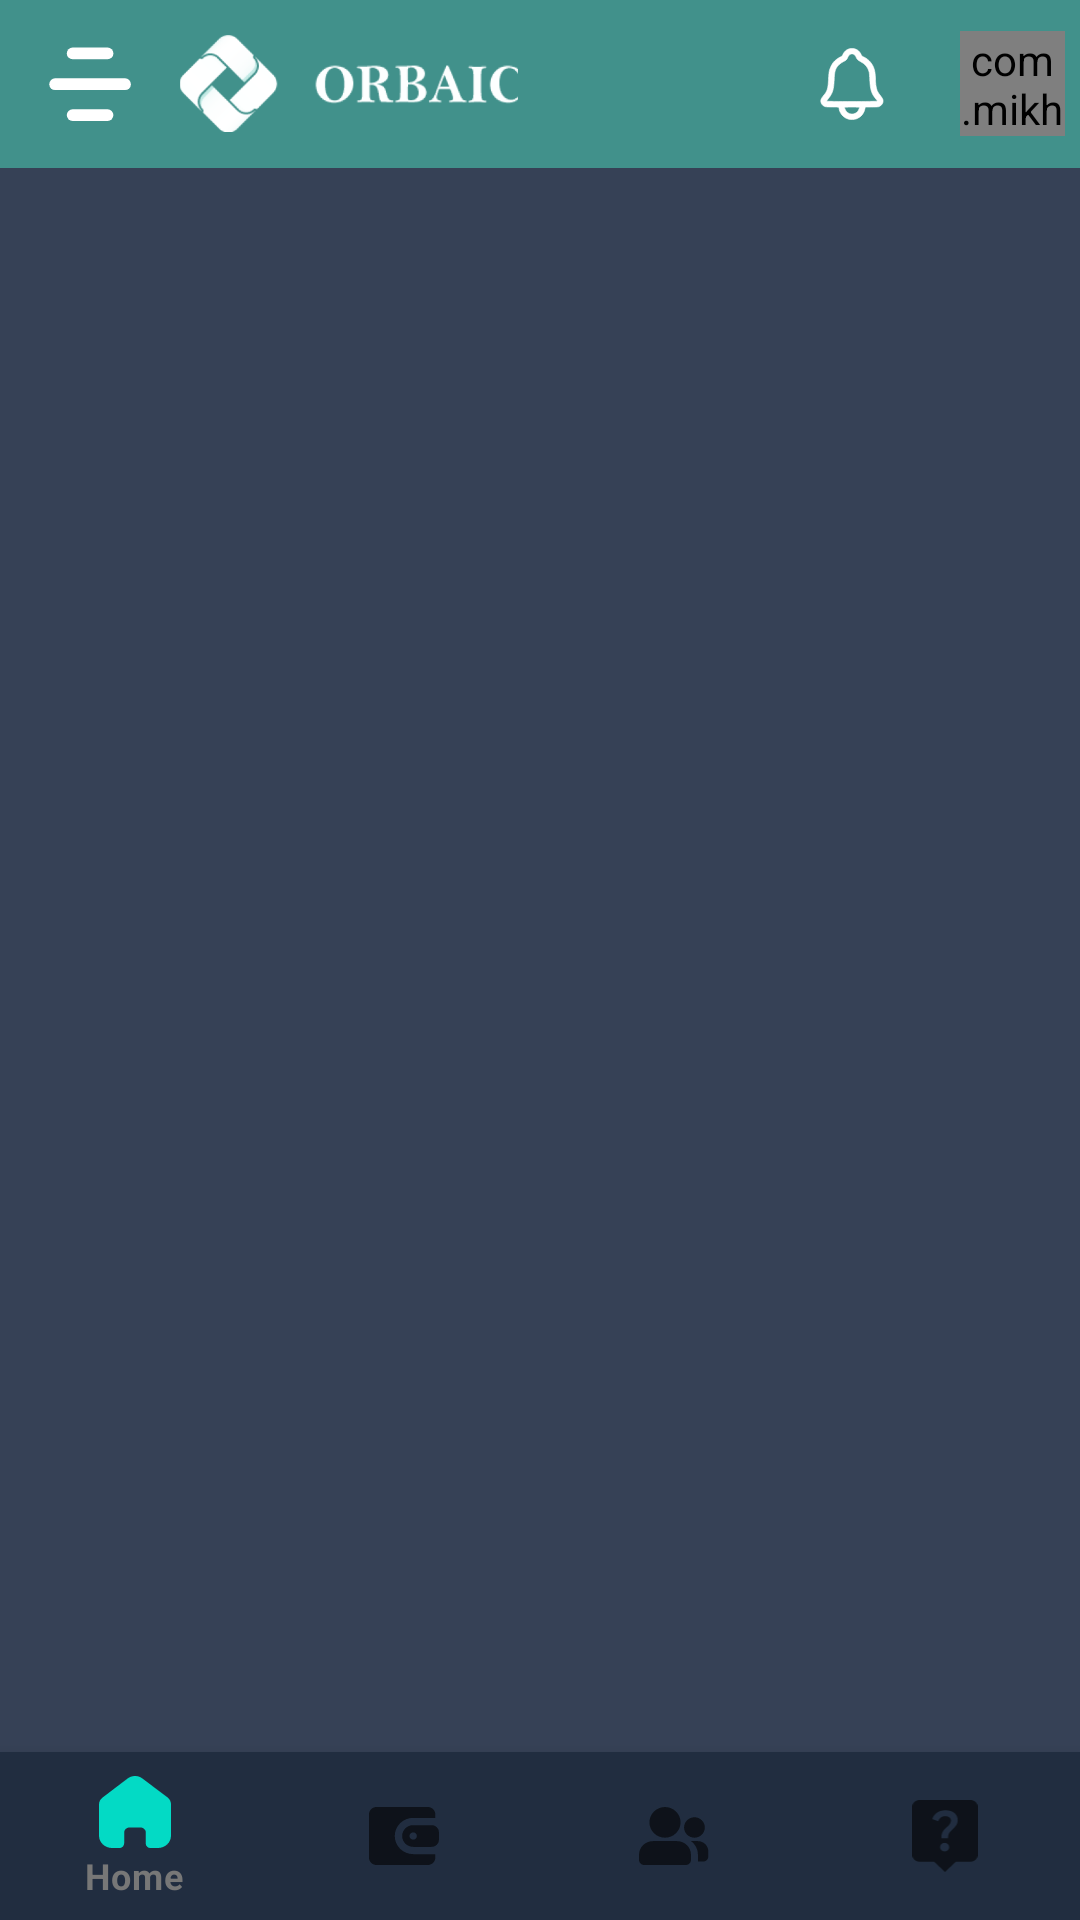

Named icons in this screenshot (1080 x 1920) and their centers, (x,y):
ham burger: (90,84)
notification: (852,84)
